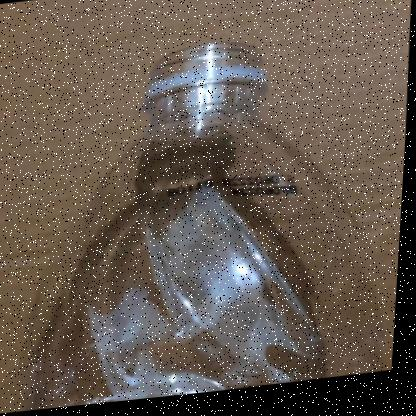open bottle: (7, 1, 405, 399)
